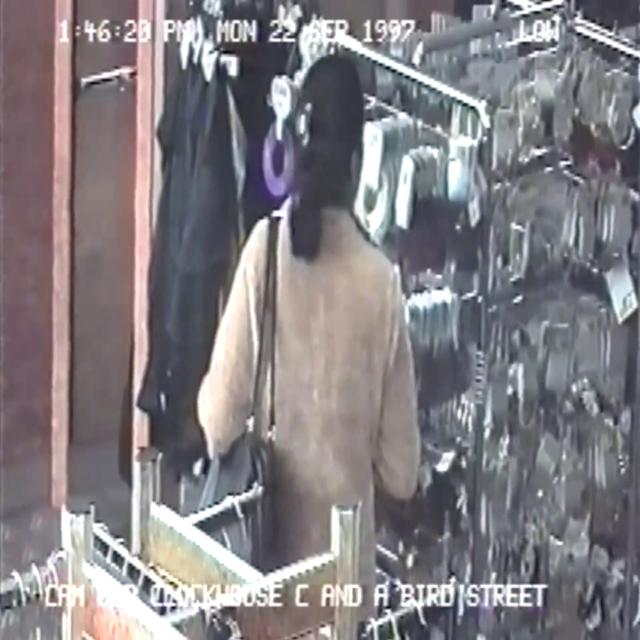normal: (187, 6, 442, 640)
